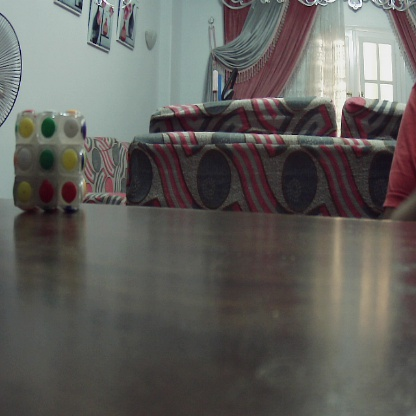Rubix Cube: (13, 109, 85, 210)
